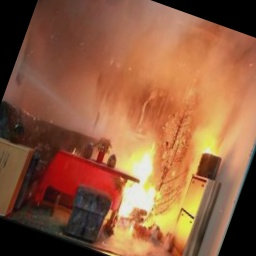fire: (102, 123, 186, 227)
smoke: (61, 0, 202, 116)
